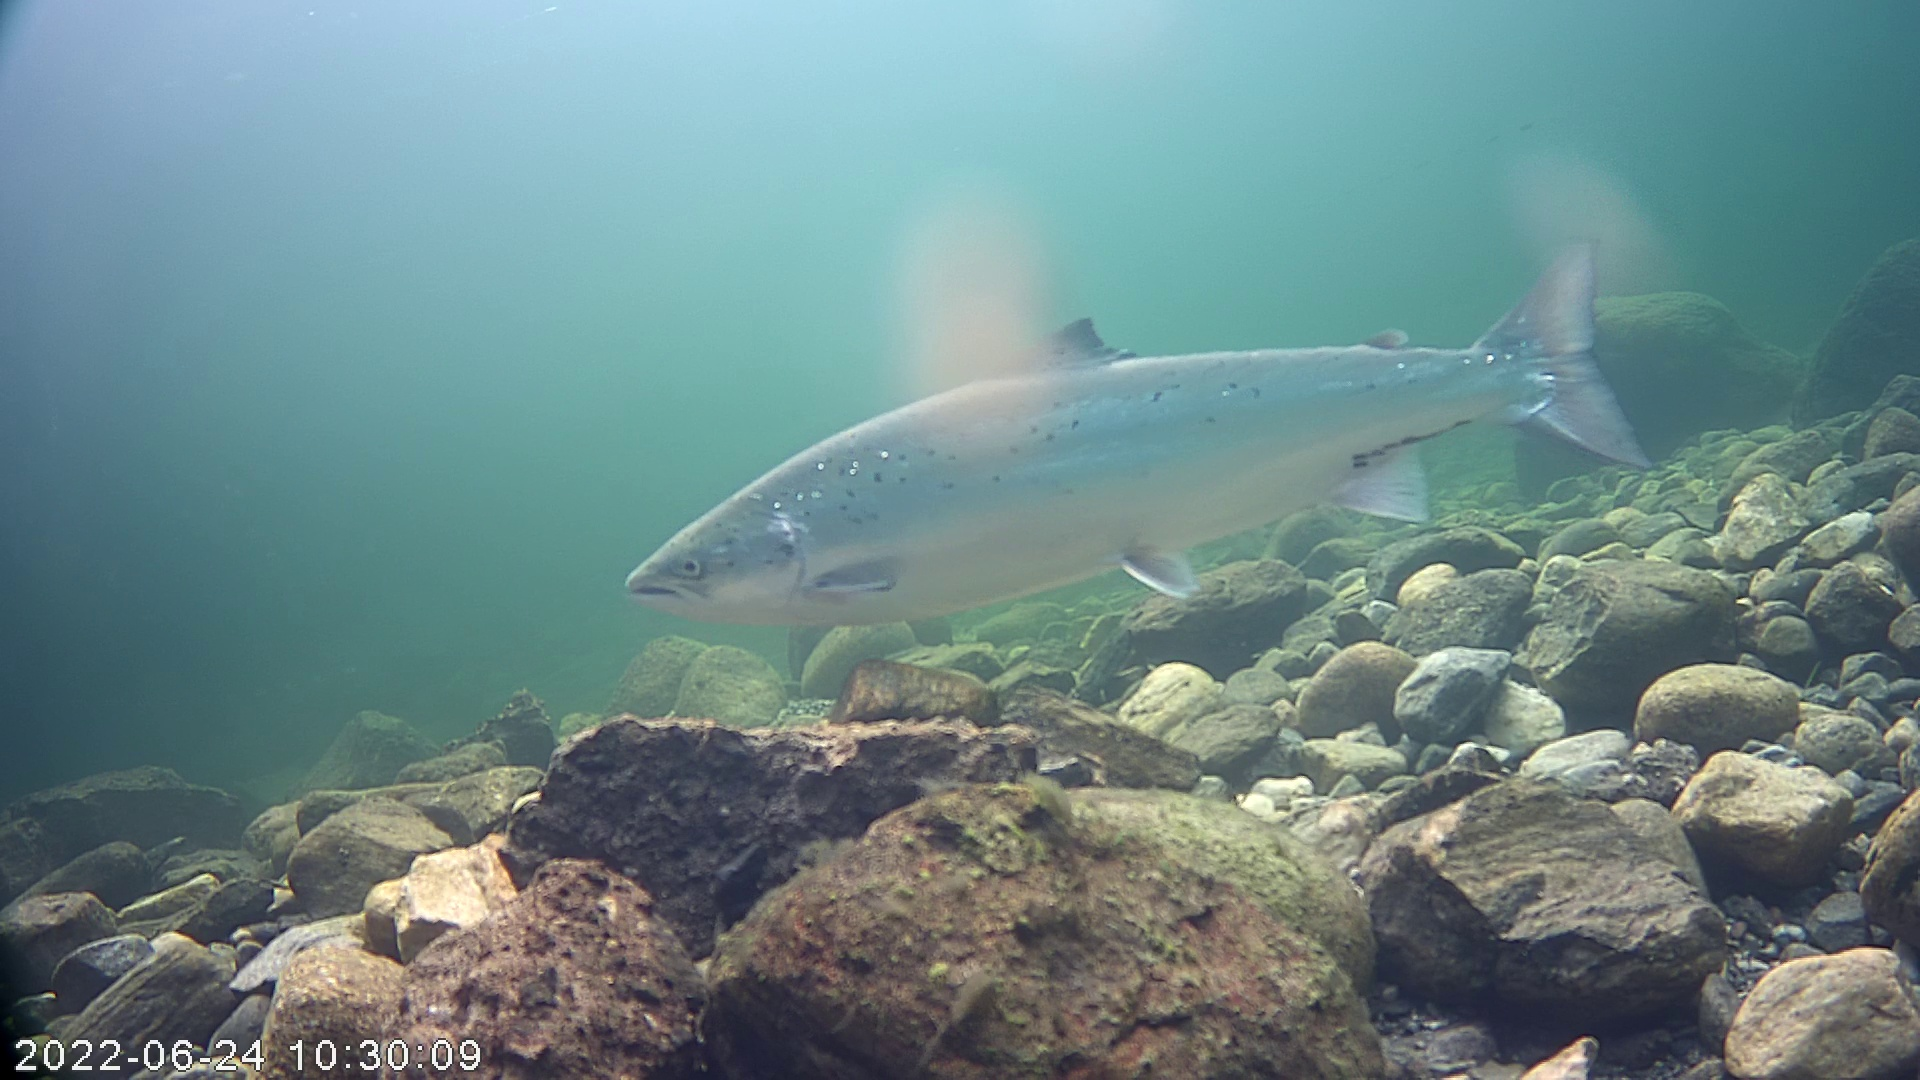salmon: (625, 233, 1660, 634)
